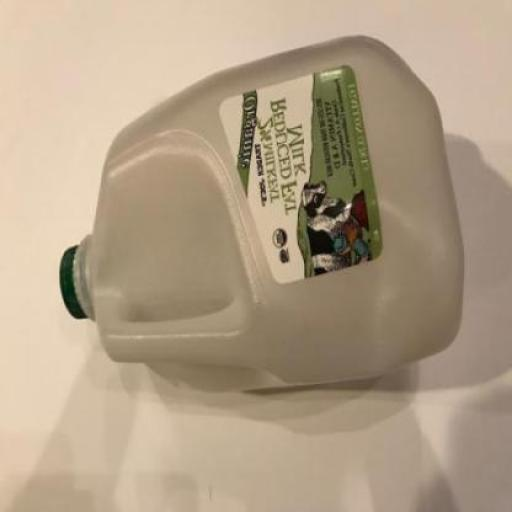plastic: (60, 33, 466, 393), (60, 244, 93, 318)
